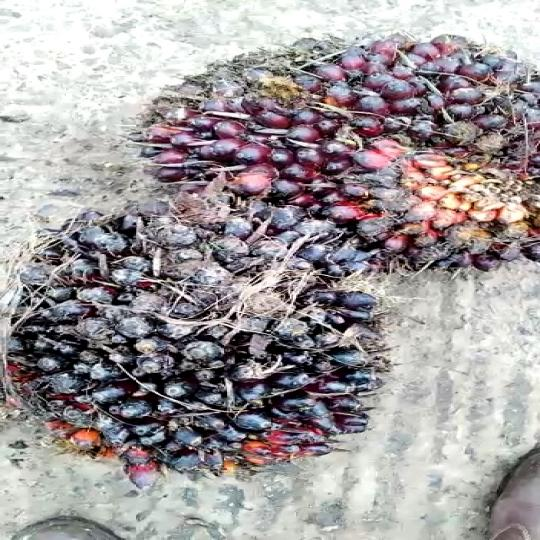kurang masak: (23, 186, 434, 476), (142, 32, 540, 274)
